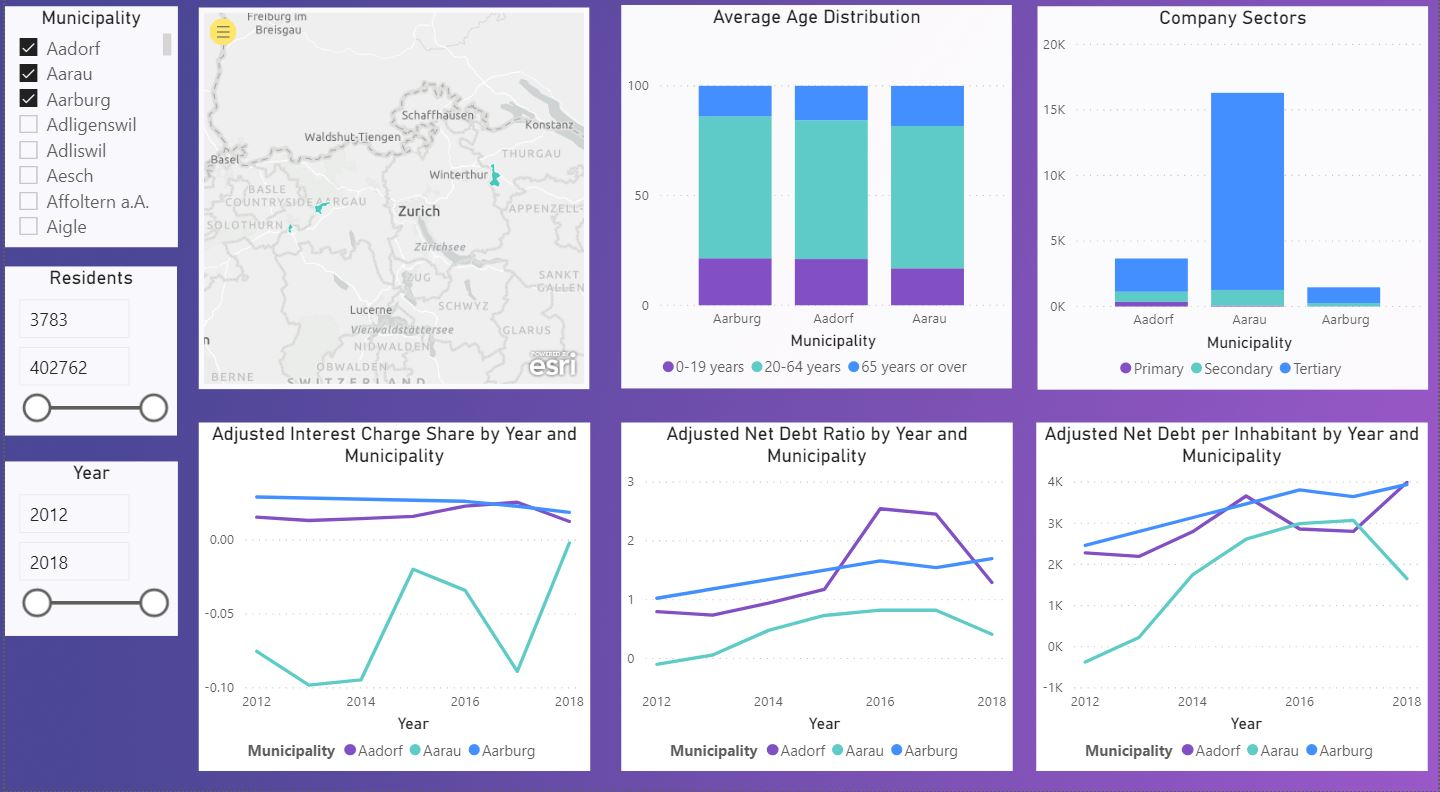

The dashboard page shown, as its layout file describes it:
{"tool":"powerbi","page":{"name":"Multiple Municipalities","canvas":[1280,720],"ordinal":2},"visuals":[{"type":"slicer","title":"Municipality","fields":{"Values":["KPI.Municipality"]},"box":[0,19,154,215.4],"z":0},{"type":"lineChart","fields":{"Series":["KPI.Municipality"],"Category":["KPI.Year"],"Y":["Sum(KPI.Adjusted Net Debt per Inhabitant)"]},"box":[920.9,390.7,349.4,311.4],"z":1000},{"type":"lineChart","fields":{"Category":["KPI.Year"],"Series":["KPI.Municipality"],"Y":["Sum(KPI.Adjusted Interest Charge Share)"]},"box":[173,390.7,349.4,311.4],"z":2000},{"type":"lineChart","fields":{"Category":["KPI.Year"],"Series":["KPI.Municipality"],"Y":["Sum(KPI.Adjusted Net Debt Ratio)"]},"box":[550.3,390.7,349.4,311.4],"z":3000},{"type":"slicer","title":"Year","fields":{"Values":["KPI.Year"]},"box":[0,425.3,154,156.3],"z":4000},{"type":"slicer","title":"Residents","fields":{"Values":["KPI.Residents"]},"box":[0,251.3,153.8,151.1],"z":5000},{"type":"columnChart","title":"Average Age Distribution","fields":{"Y":["Avg(KPI.0-19 years)","Avg(KPI.20-64 years)","Avg(KPI.65 years or over)"],"Category":["KPI.Municipality"]},"box":[550.4,17.5,349.1,342.1],"z":6000},{"type":"columnChart","title":"Company Sectors","fields":{"Category":["KPI.Municipality"],"Y":["Sum(KPI.Companies primary sector)","Sum(KPI.Companies secondary sector)","Sum(KPI.Companies tertiary sector)"]},"box":[921.6,18.6,349.1,342.1],"z":7000},{"type":"esriVisual","fields":{"Location":["KPI.Municipality"]},"box":[173.4,19.8,349.1,340.9],"z":8000}]}

Visuals, with their boxes in screenshot pixels (x1, y1, x2, y2), scaled from the page's 1280x720 canvas onto the 1440x792 screenshot:
"Municipality" slicer: region(0, 21, 173, 258)
lineChart - KPI.Municipality x KPI.Year: region(1036, 430, 1429, 772)
lineChart - KPI.Year x KPI.Municipality: region(195, 430, 588, 772)
lineChart - KPI.Year x KPI.Municipality: region(619, 430, 1012, 772)
"Year" slicer: region(0, 468, 173, 640)
"Residents" slicer: region(0, 276, 173, 443)
"Average Age Distribution" columnChart: region(619, 19, 1012, 396)
"Company Sectors" columnChart: region(1037, 20, 1430, 397)
esriVisual - KPI.Municipality: region(195, 22, 588, 397)
